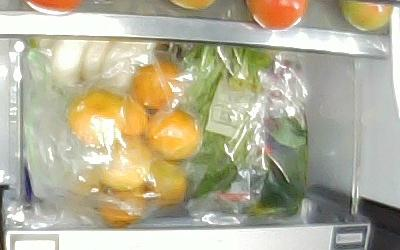tangerine_vinyl: (68, 90, 119, 148), (146, 110, 200, 161), (102, 135, 150, 190), (133, 62, 178, 109), (99, 187, 143, 227), (149, 161, 186, 205), (118, 97, 148, 135)
